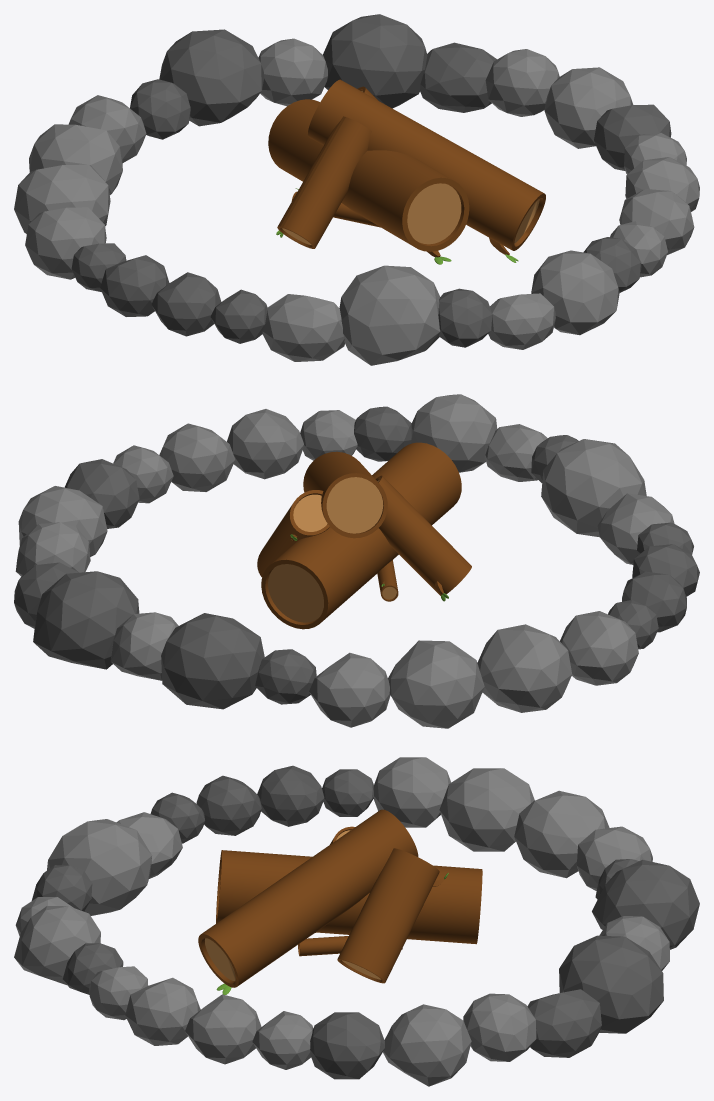
Rendered from antre-feu.fbx.
The picture shows the model from 3 angles, top to bottom: view 1: azimuth 30°, elevation 25°; view 2: azimuth 150°, elevation 25°; view 3: azimuth 270°, elevation 25°; orthographic projection. The views are drawn at different scales.
Parts seen in each view (by area): view 1: antre; view 2: antre; view 3: antre.
Boxes of the visible parts, x1,y1,x2,y2 form: antre: [14, 14, 699, 365]; antre: [14, 394, 699, 728]; antre: [14, 757, 699, 1086].
Bounding box in the file's own units: 1242 × 289 × 1262.
